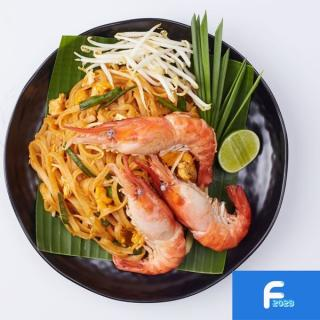carbs: (31, 152, 127, 240), (54, 78, 162, 122)
meat: (129, 168, 242, 274), (98, 115, 216, 176)
pad_thai: (45, 34, 256, 269)
veg: (192, 14, 250, 127), (93, 28, 194, 87), (220, 130, 259, 172)
